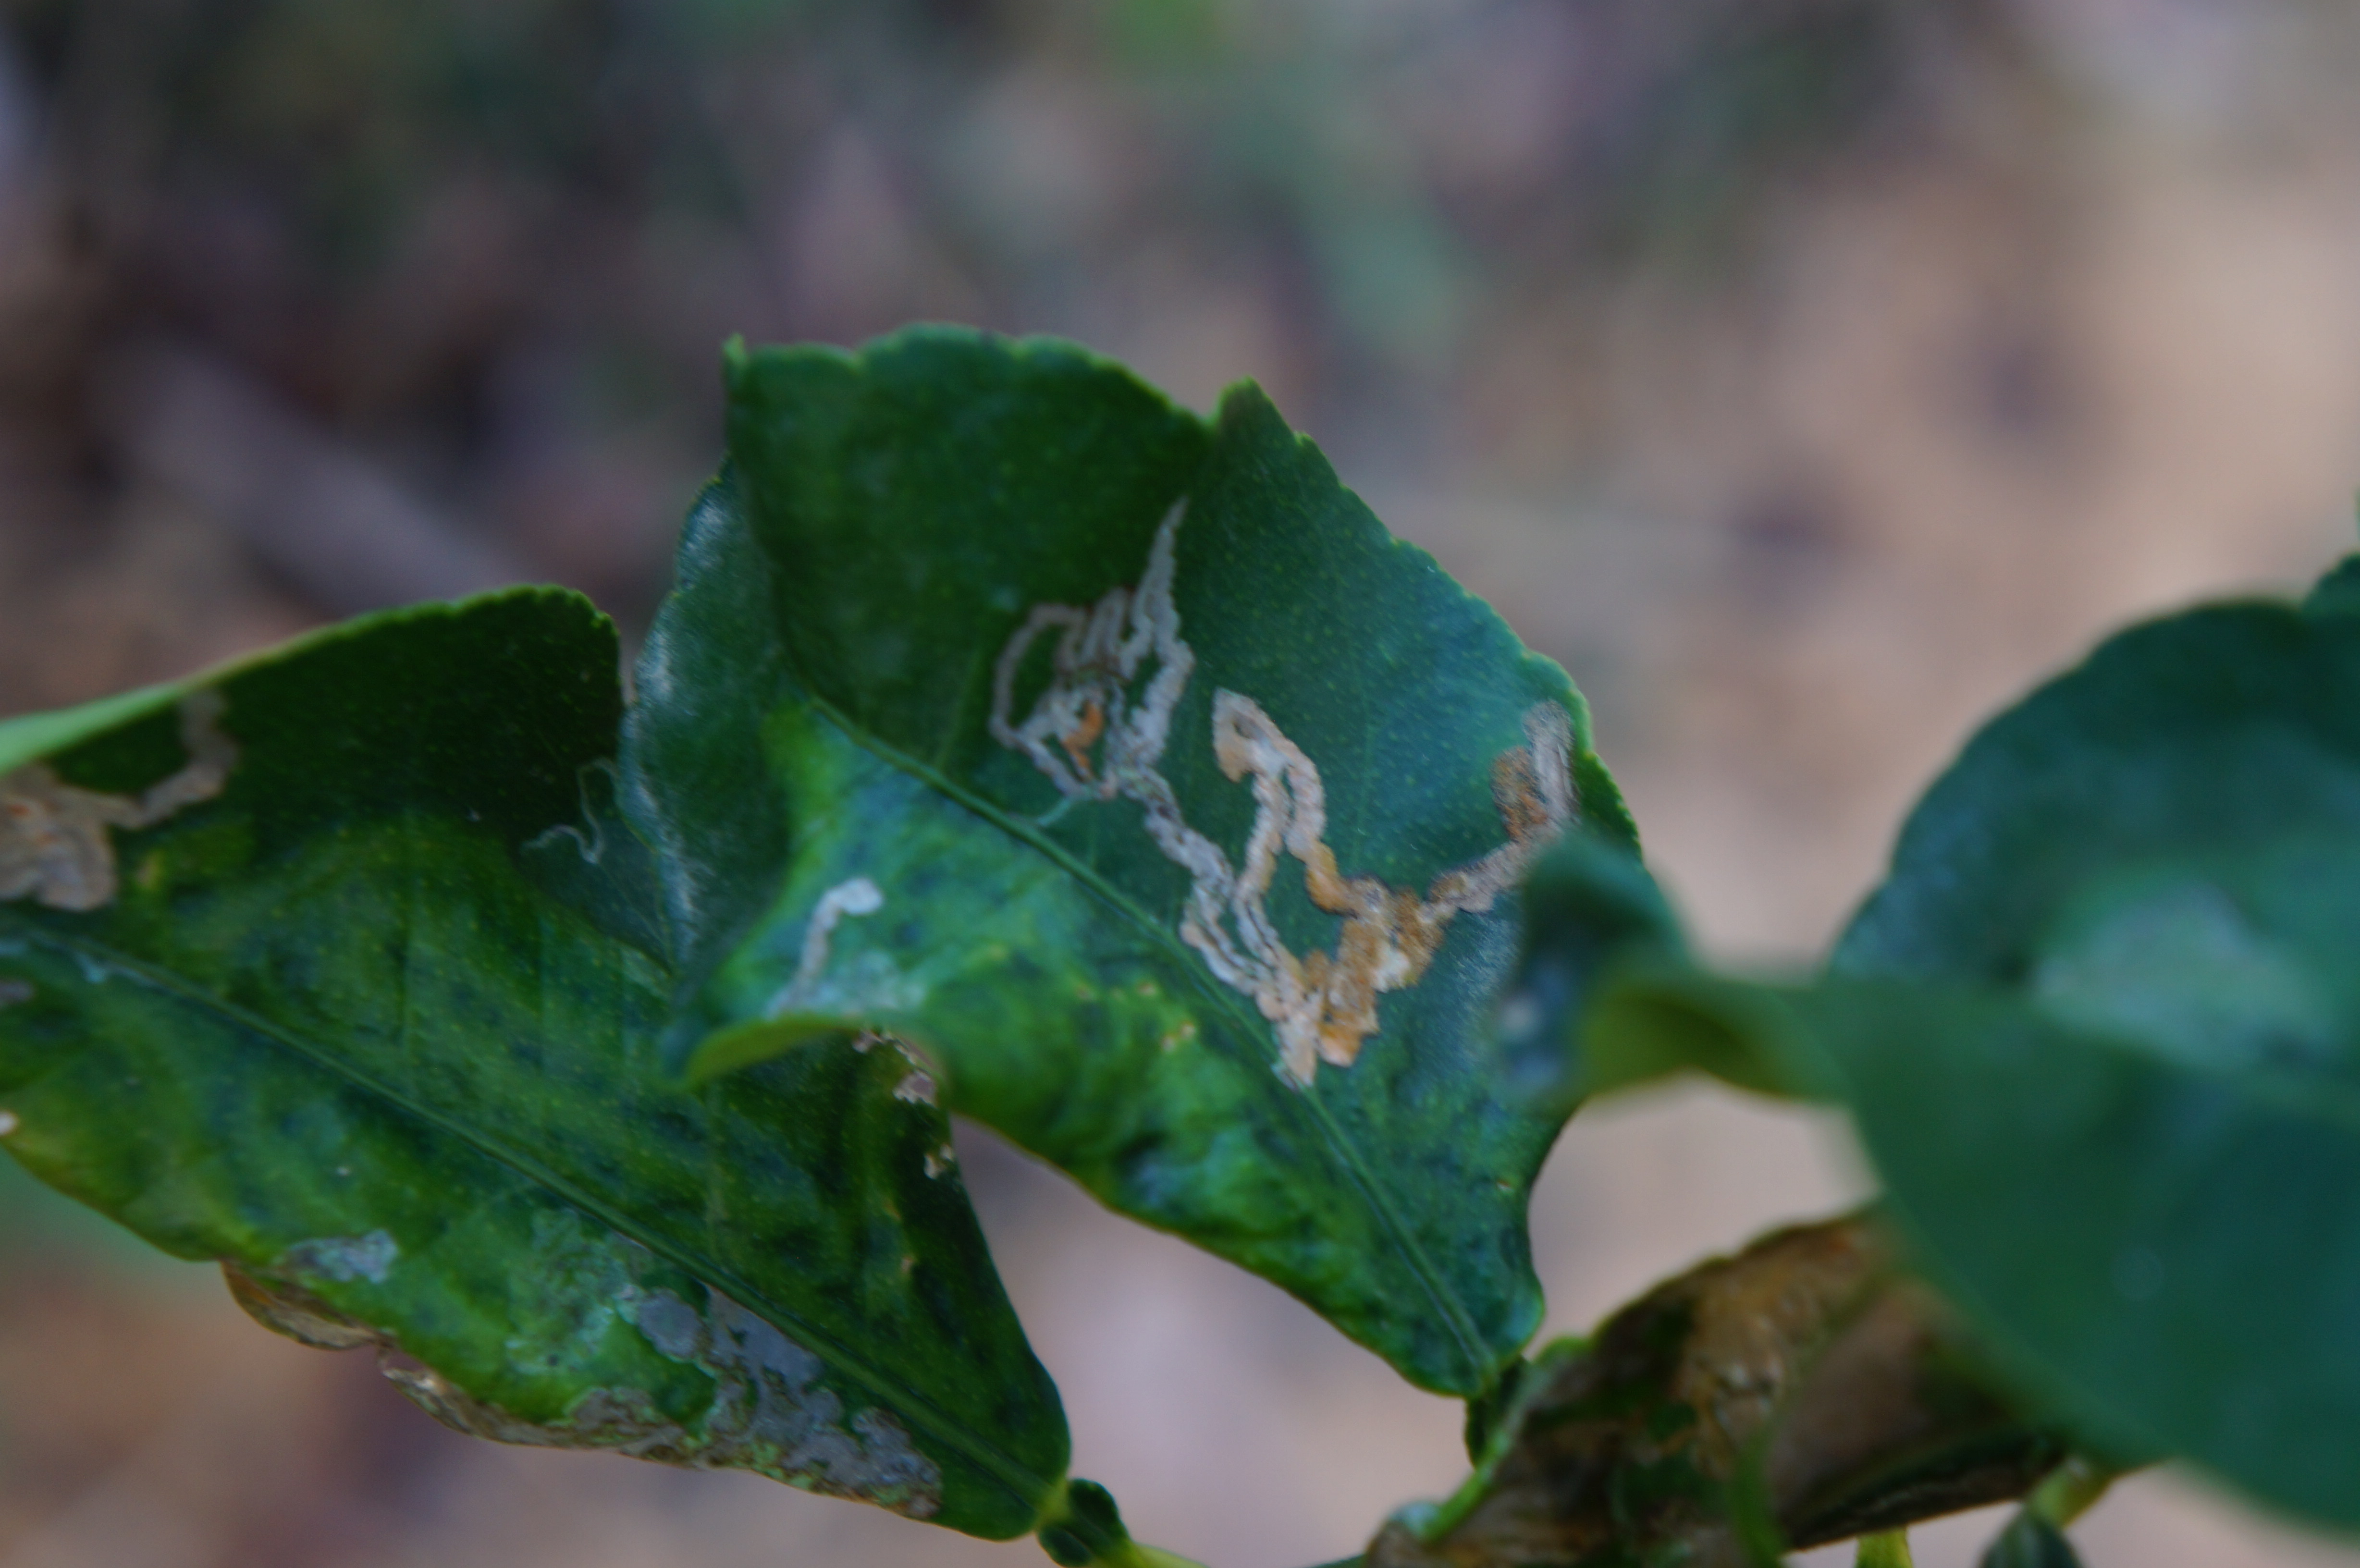damage: (938, 446, 1615, 1073), (233, 1181, 964, 1535), (0, 653, 276, 931)
